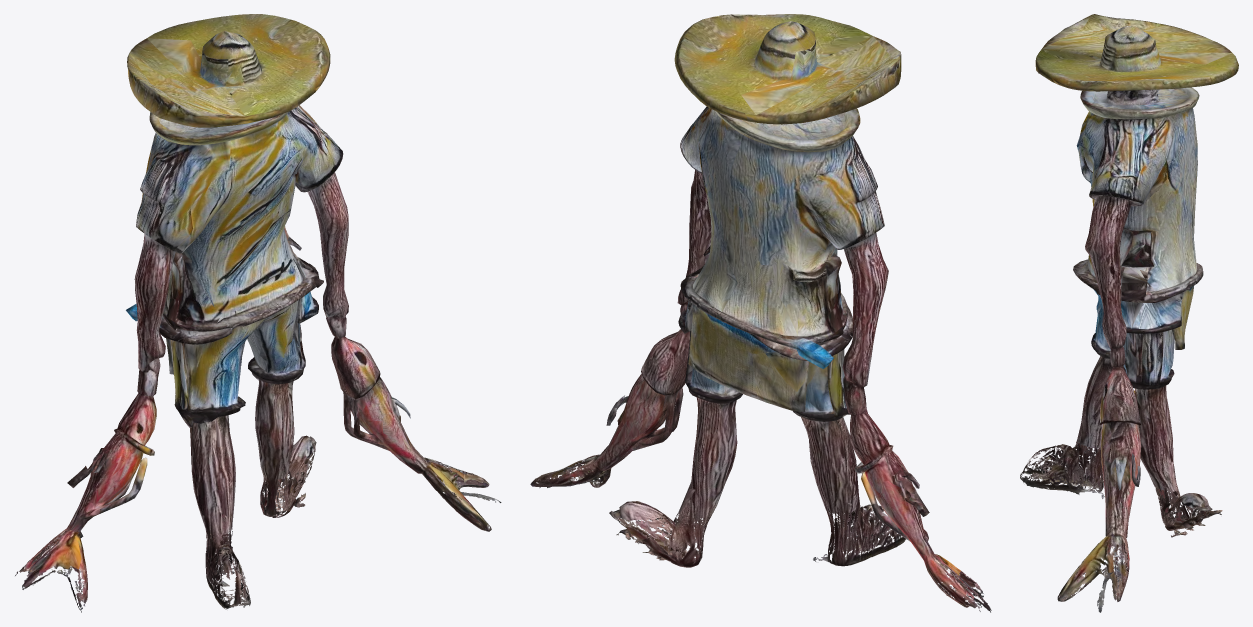
The model's file is fisherman.glb.
The picture shows the model from 3 angles, left to right: view 1: azimuth 30°, elevation 25°; view 2: azimuth 150°, elevation 25°; view 3: azimuth 270°, elevation 25°; orthographic projection. The views are drawn at different scales.
Parts seen in each view (by area): view 1: fisherman; view 2: fisherman; view 3: fisherman.
Boxes of the visible parts, x1,y1,x2,y2 form: fisherman: (15, 14, 501, 612); fisherman: (530, 14, 991, 612); fisherman: (1020, 14, 1238, 612).
Bounding box in the file's own units: 1.57 × 1.73 × 0.7181.
1 material, 1 textured.
